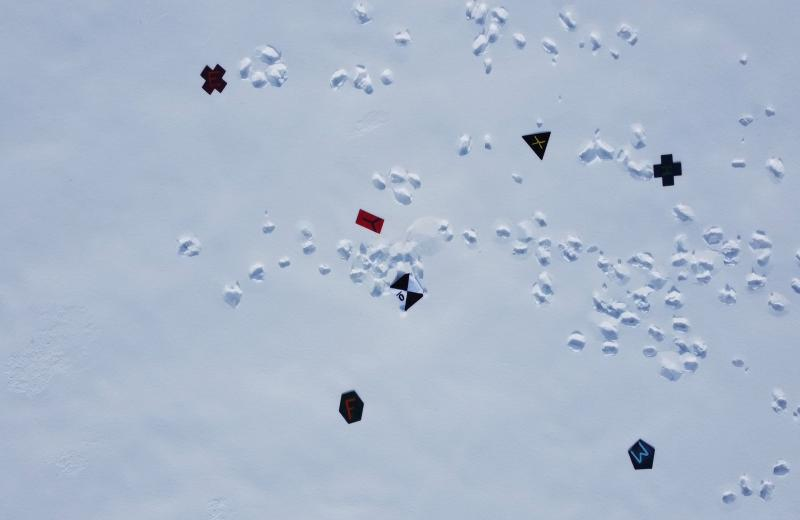Cross: (195, 56, 231, 104), (648, 152, 687, 194)
Hexagon: (330, 385, 368, 429)
Pentagon: (621, 432, 660, 478)
Rectangle: (350, 204, 388, 240)
Triangle: (516, 124, 557, 166)
